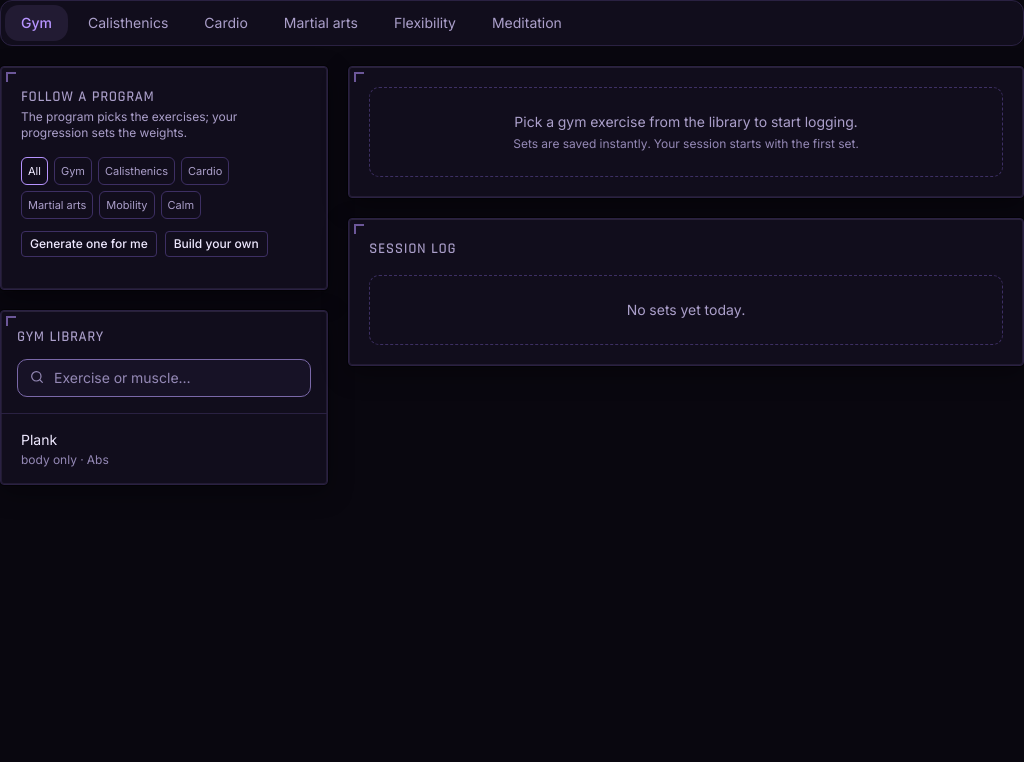
Test case: Training page › pre-fills a hold with last time's seconds
The image size is (1024, 762).
Click the text "Plank": (39, 440) x1=21 y1=431 x2=57 y2=448
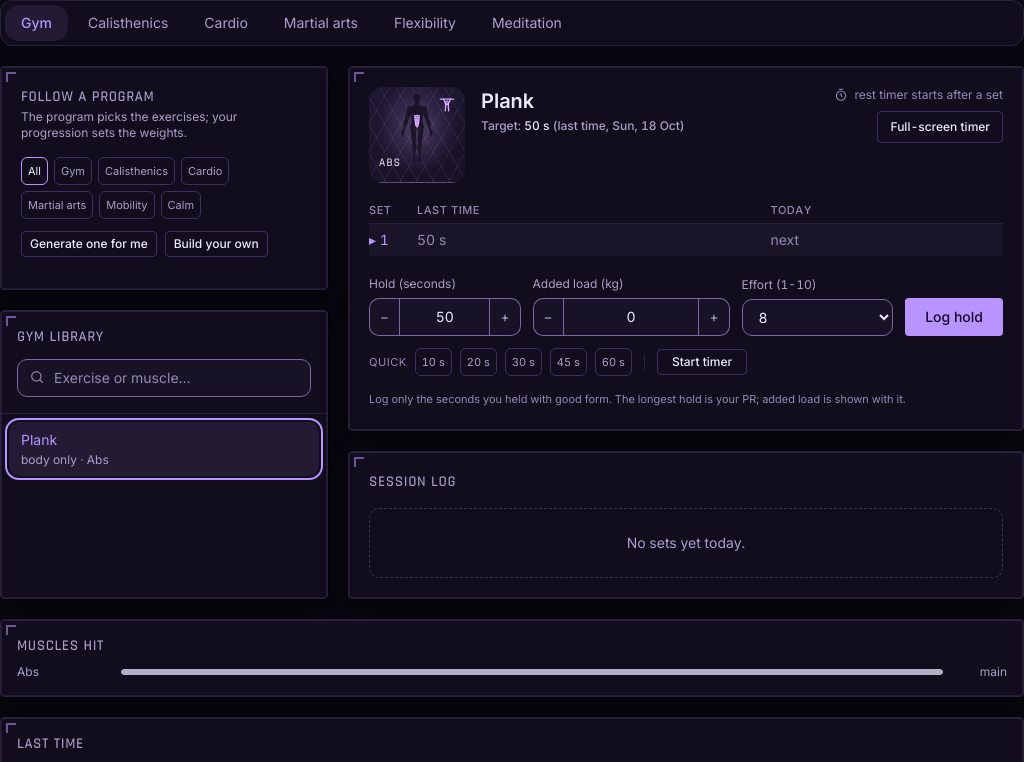
Result: the number field named "Hold (seconds)" holds "50" at x1=399 y1=298 x2=490 y2=336
Result: the cell with test id "ghost" reads "50 s" at x1=417 y1=231 x2=446 y2=248
